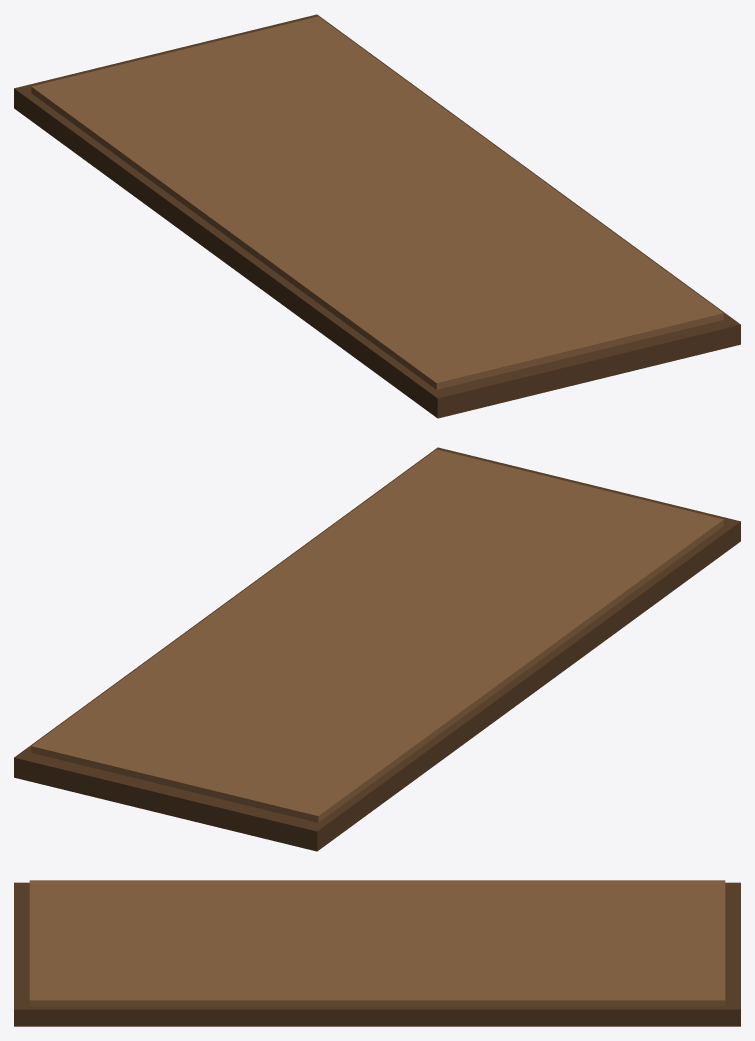
File: step.glb
3 views of the same model, one above another, from view 1: azimuth 30°, elevation 25°; view 2: azimuth 150°, elevation 25°; view 3: azimuth 270°, elevation 25° (orthographic). The views are drawn at different scales.
Visible parts, largest first — view 1: #8a6440_noshadow, #5a3e26; view 2: #8a6440_noshadow, #5a3e26; view 3: #8a6440_noshadow, #5a3e26.
Boxes of the visible parts, x1,y1,x2,y2 form: #8a6440_noshadow: [31, 16, 723, 389]; #5a3e26: [14, 14, 740, 418]; #8a6440_noshadow: [31, 449, 723, 822]; #5a3e26: [14, 447, 740, 851]; #8a6440_noshadow: [29, 880, 725, 1006]; #5a3e26: [14, 882, 740, 1026].
Bounding box in the file's own units: 0.95 × 0.08 × 2.3.
